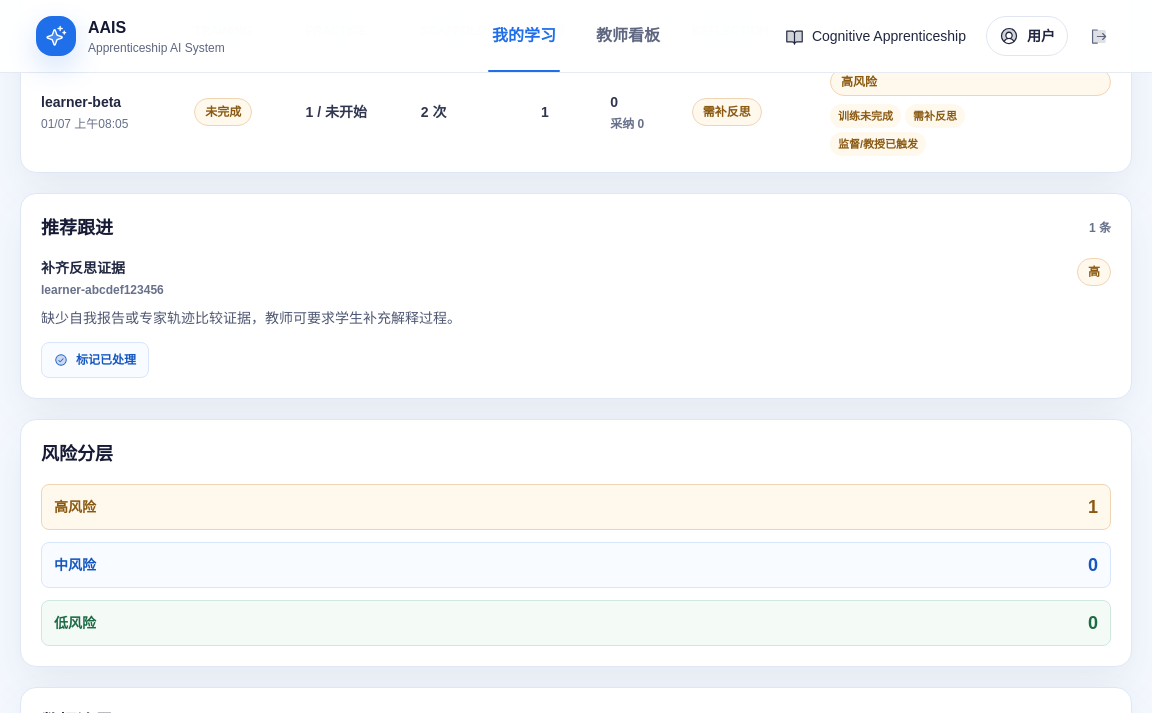
Test case: AAIS TeacherDashboardPage › records a teacher recommendation override from the dashboard card
The width and height of the screenshot is (1152, 713).
(page scrolled)
Expected: the text "补齐反思证据" is shown, left=41, top=260, right=125, bottom=276
Click the button "标记已处理" at (95, 360), box left=41, top=342, right=149, bottom=378
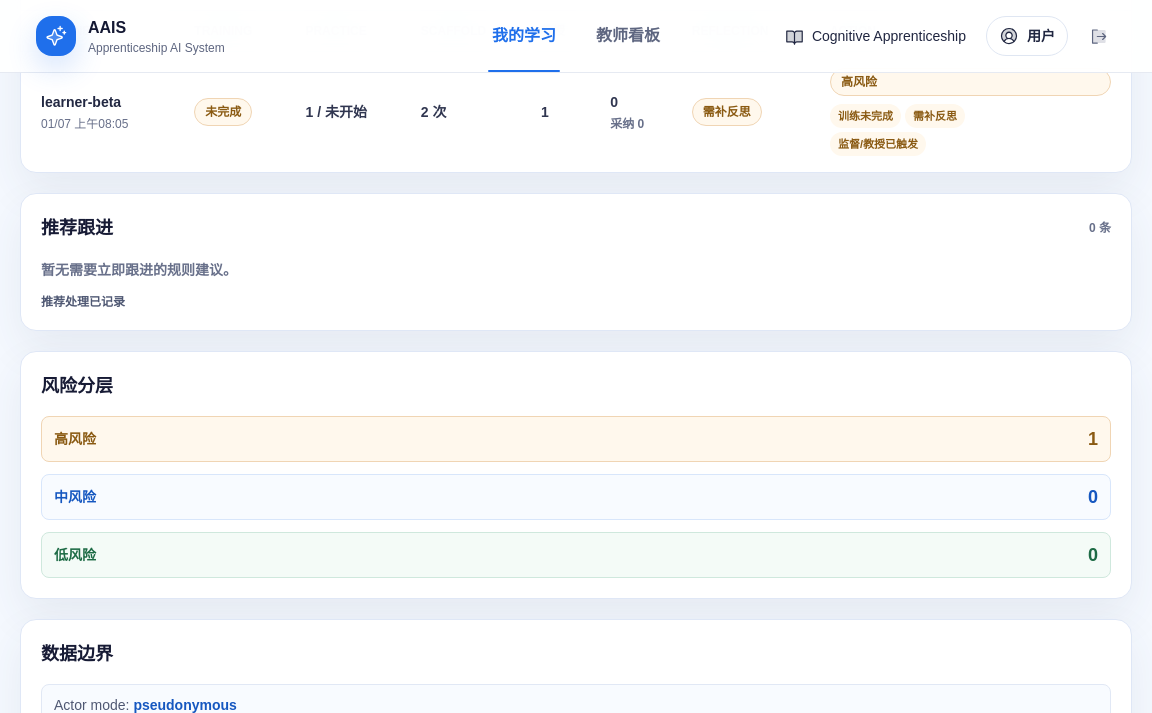
Result: the message reads "推荐处理已记录" at left=41, top=295, right=125, bottom=309
